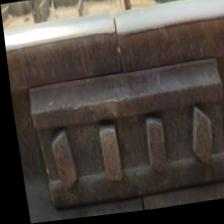person: (58, 0, 173, 96)
